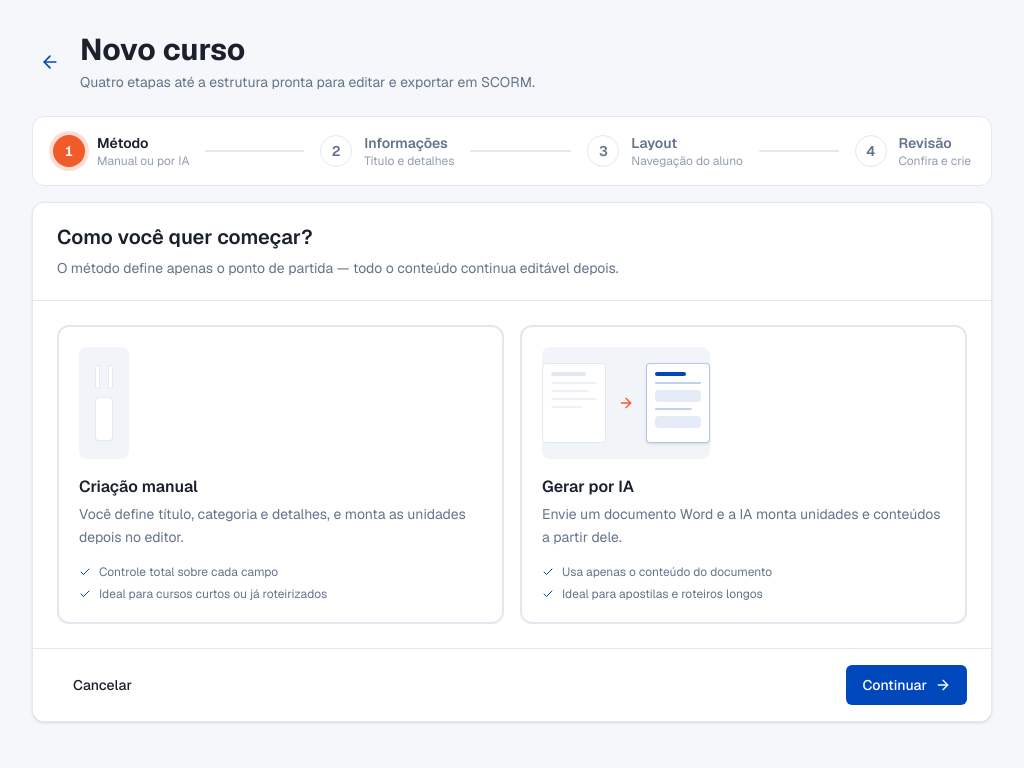
New Course page › warns when continuing without a method
This screenshot has width=1024, height=768.
Click the button "Continuar".
click(907, 685)  # box [846, 665, 967, 705]
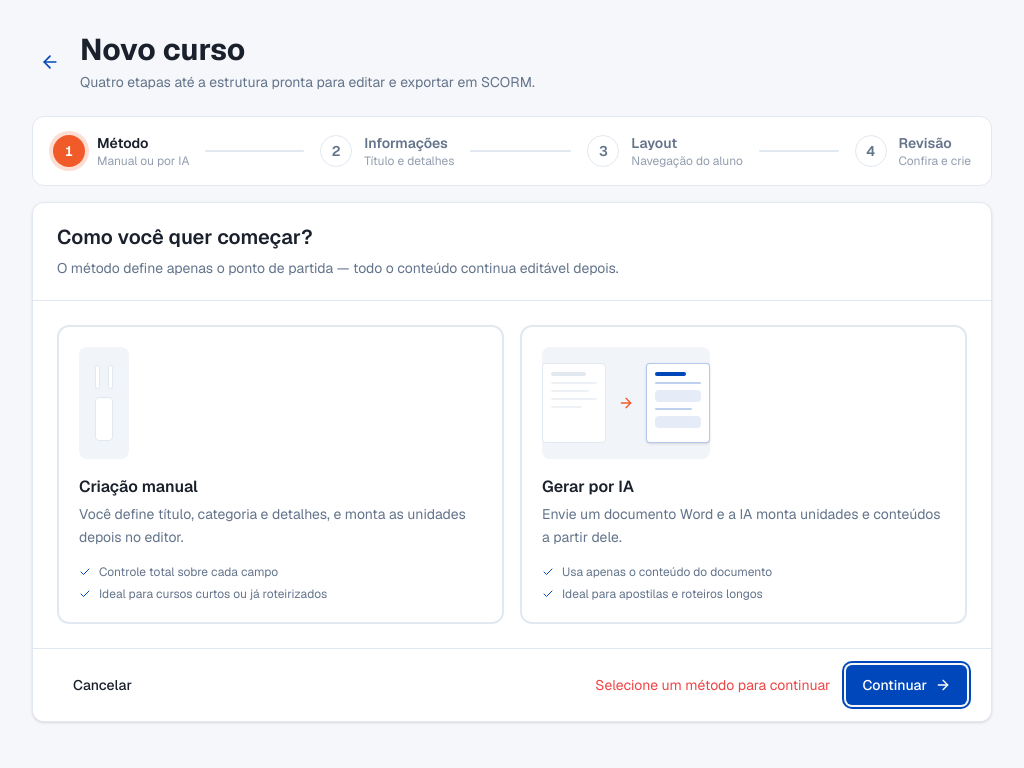
Expected: the heading "Como você quer começar?" is shown, [57, 224, 312, 250]
Expected: the text "Selecione um método para continuar" is shown, [595, 676, 830, 694]
